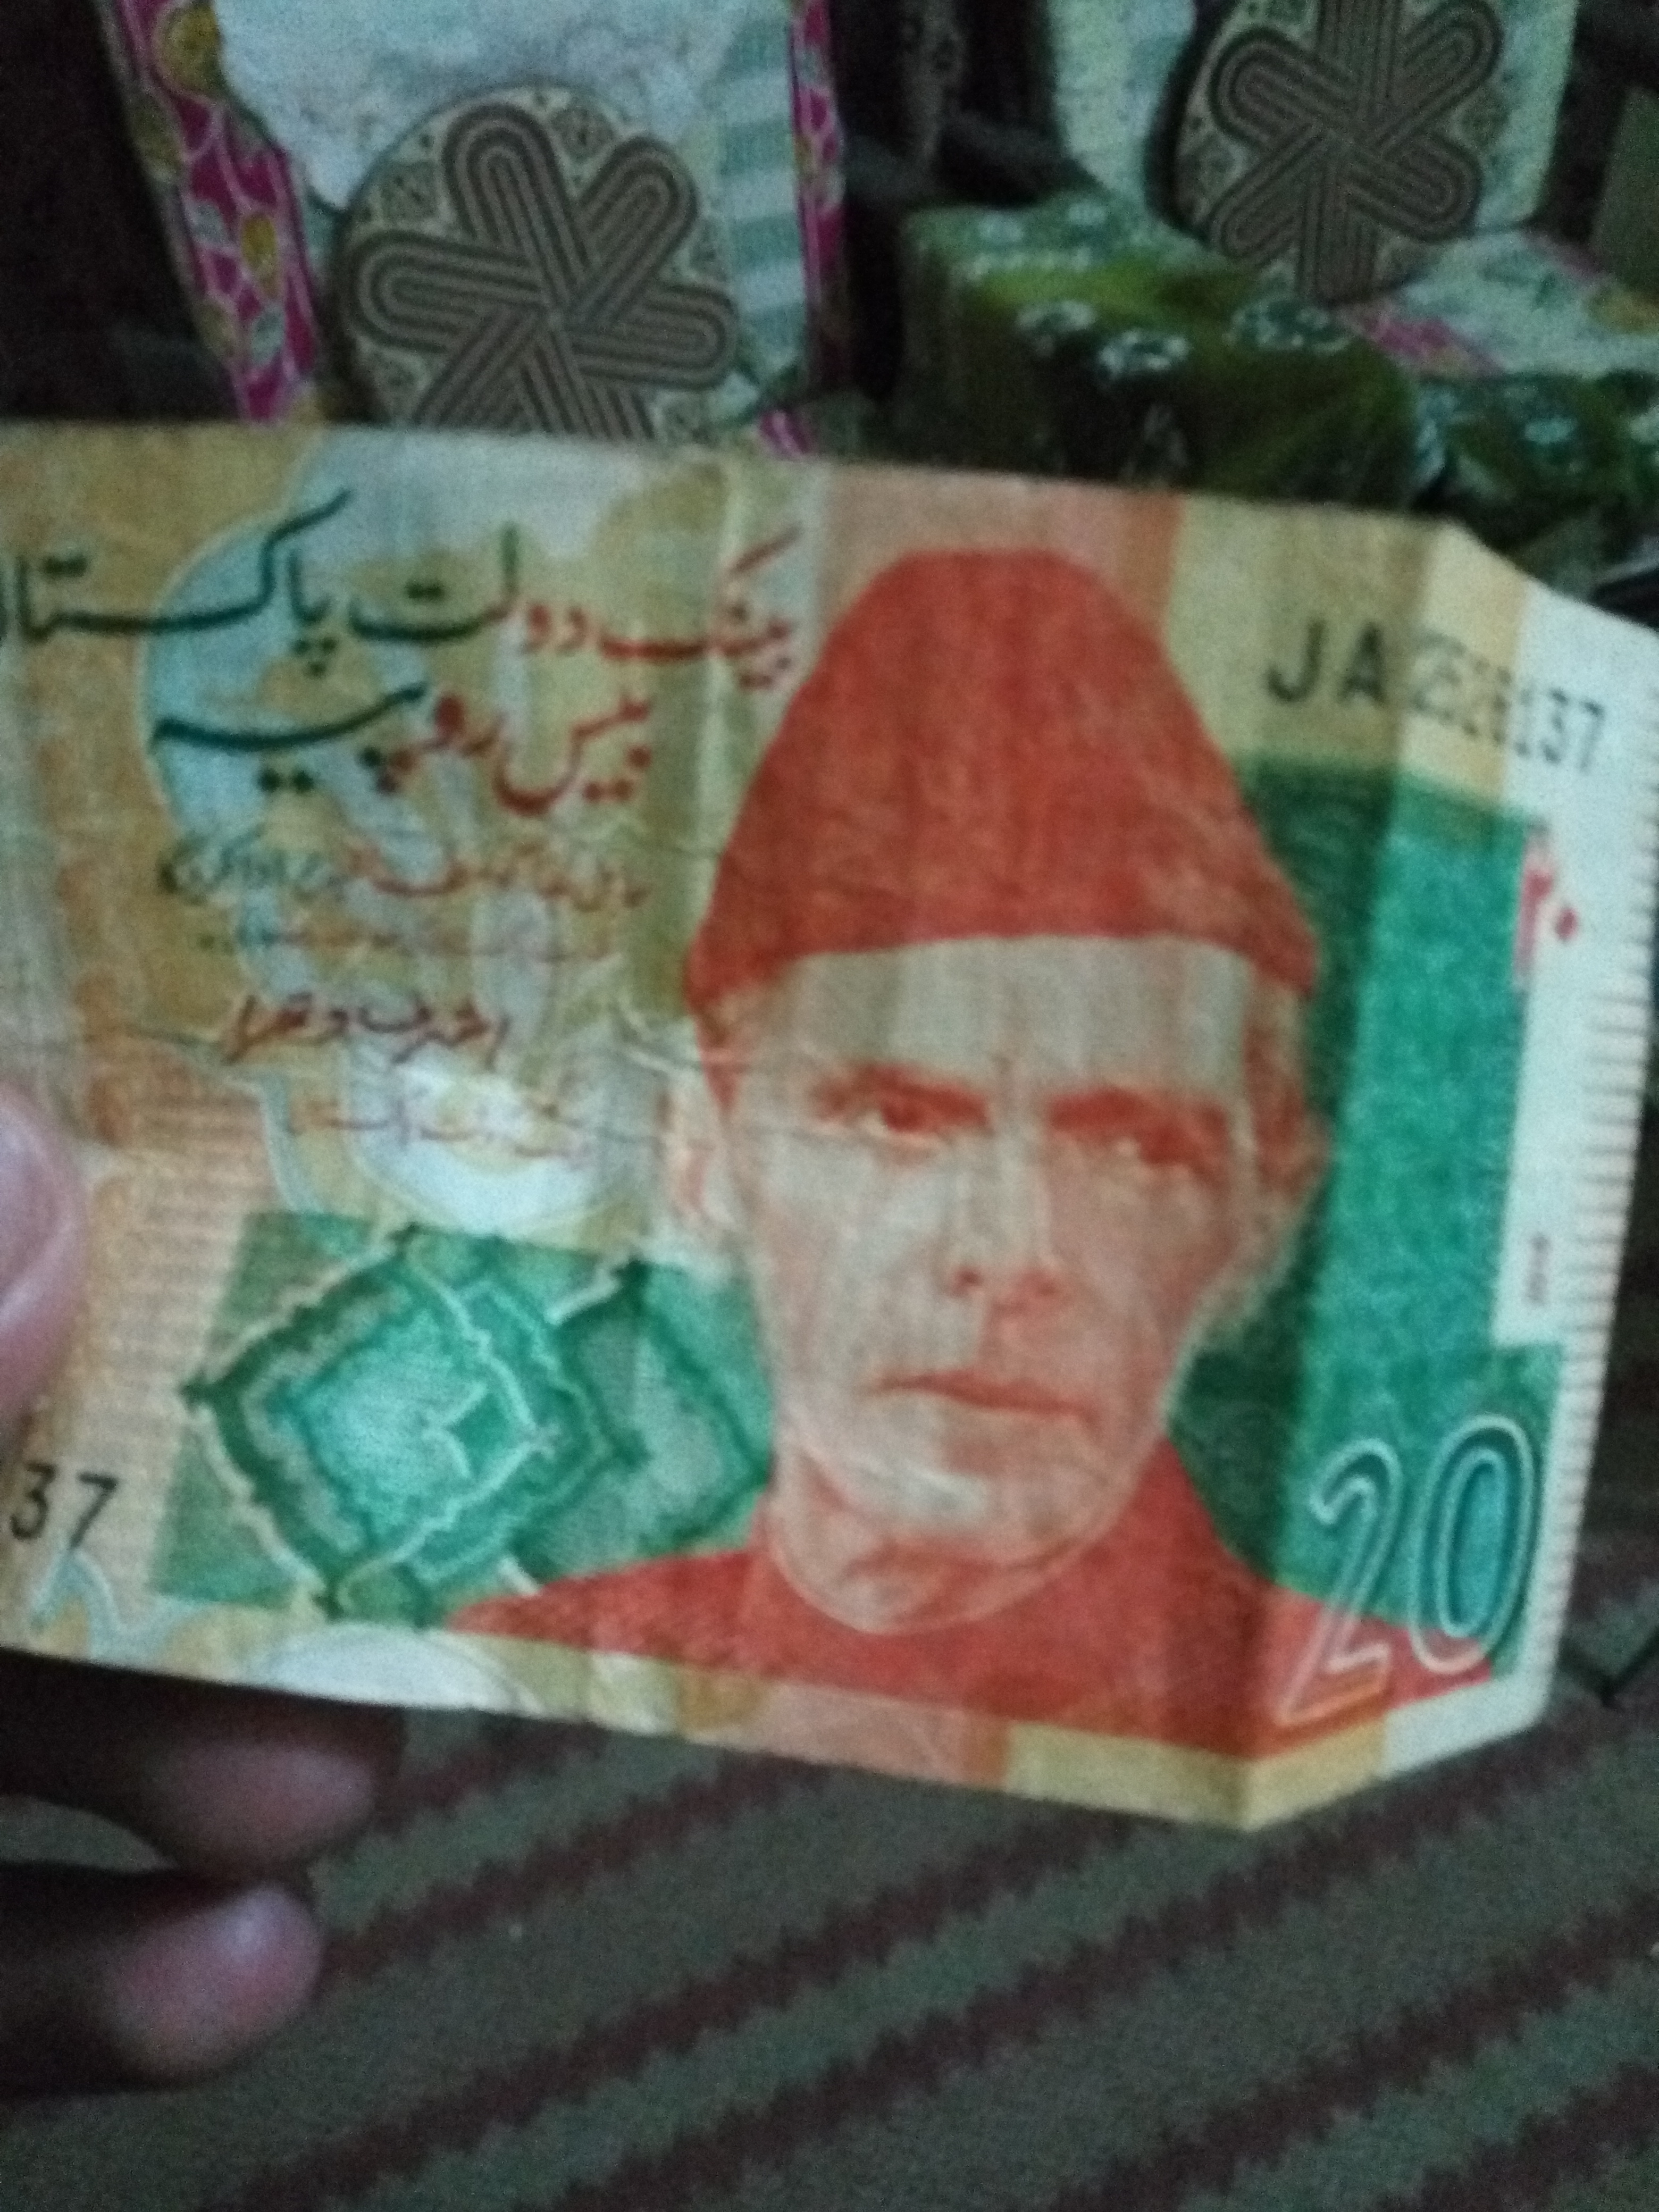20 rupee: (35, 362, 1629, 1977)
